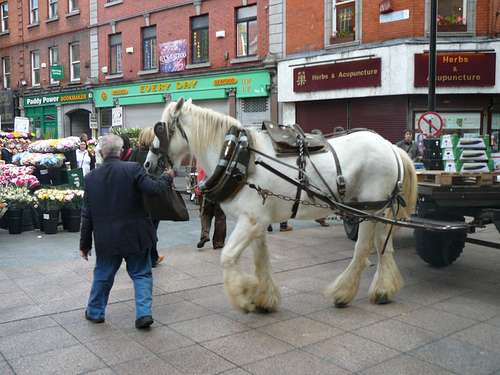horse: (143, 97, 419, 315)
